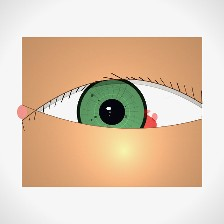hemorrhage_spot: (71, 85, 170, 165)
